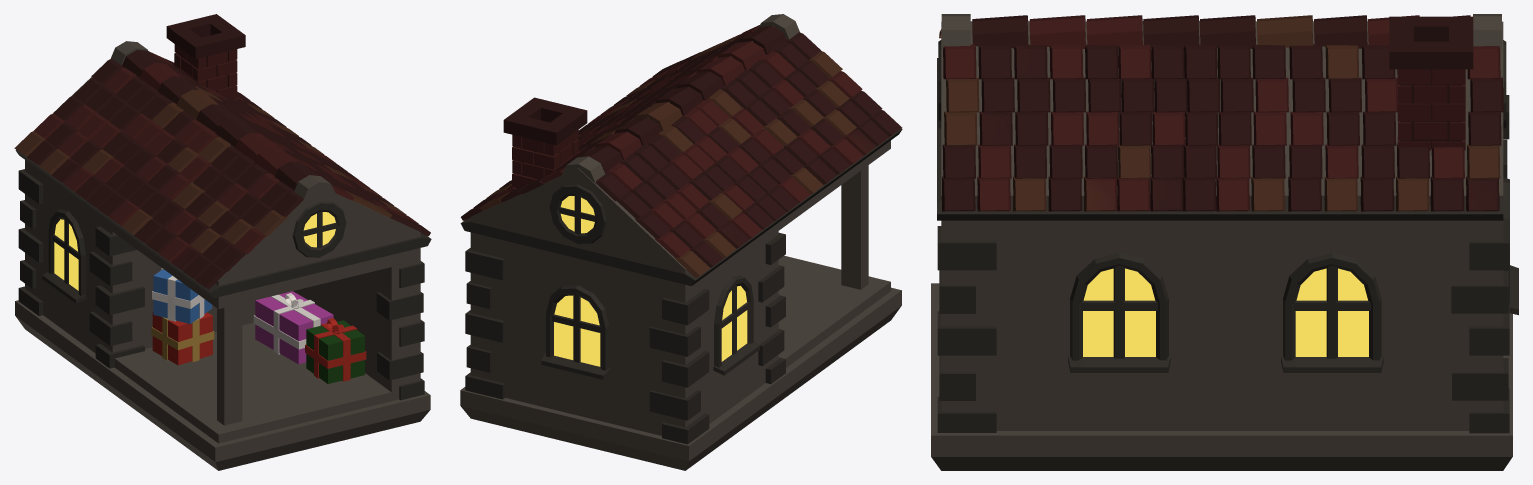
The model's file is Building_01.glb.
3 views of the same model, side by side, from view 1: azimuth 30°, elevation 25°; view 2: azimuth 150°, elevation 25°; view 3: azimuth 270°, elevation 25° (orthographic). The views are drawn at different scales.
Parts seen in each view (by area): view 1: Building_01; view 2: Building_01; view 3: Building_01.
Part boxes in pixels (x1,y1,x2,y2): Building_01: [14, 14, 431, 470]; Building_01: [460, 14, 902, 470]; Building_01: [931, 14, 1518, 470].
Bounding box in the file's own units: 1.35 × 1.59 × 2.09.
Materials: 2 (1 with a texture image).
